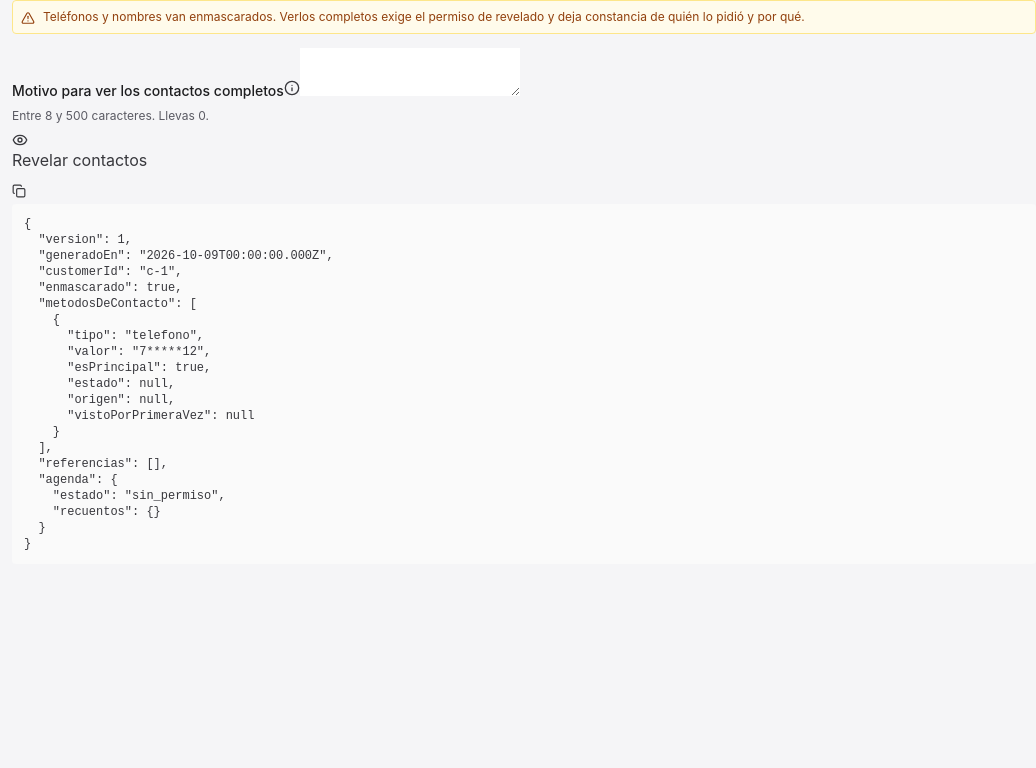
Test: VistaDeContactos › enseña el rechazo del servidor (0)
The image size is (1036, 768).
Type "Verificar la referencia antes de aprobar" into the text box labelled "Motivo para ver los contactos completos" at (410, 72), box 300,48 -> 520,96
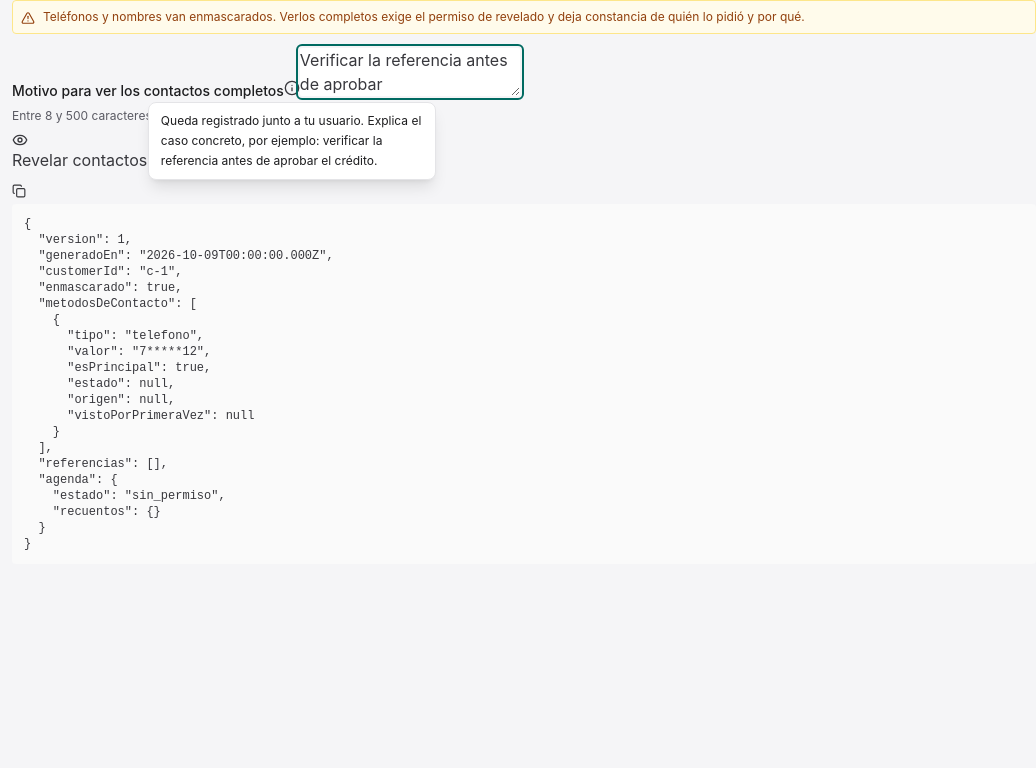
Click the button "Revelar contactos" at (80, 152), box 12,132 -> 147,172
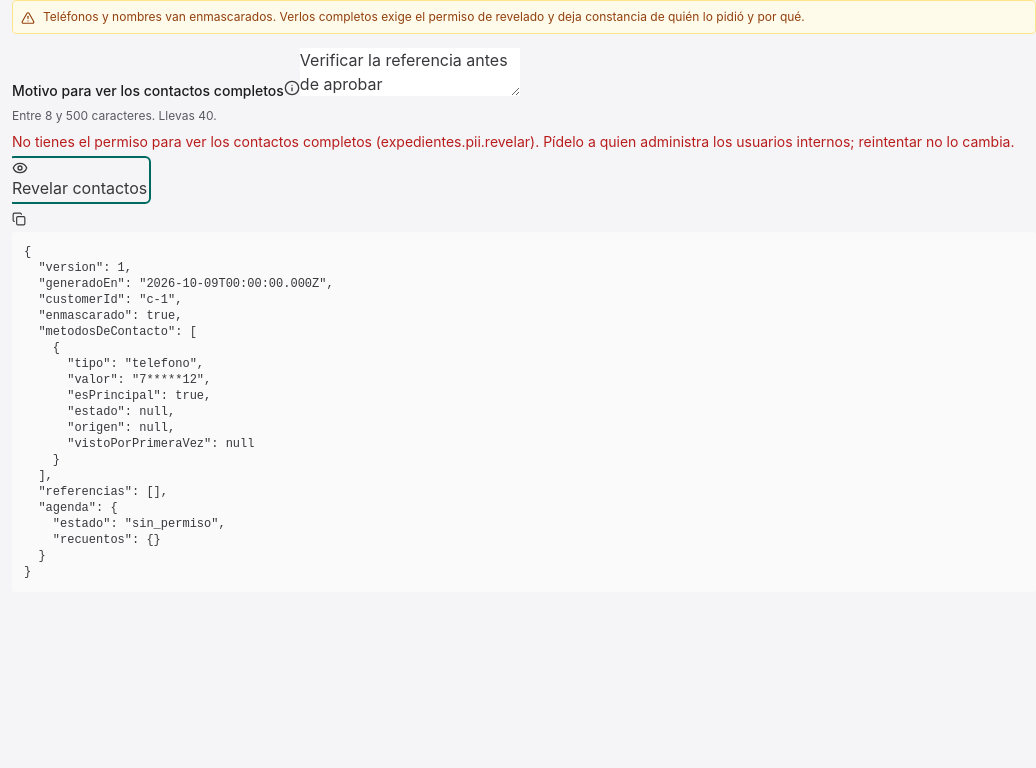
Now the message shows "No tienes el permiso para ver los contactos completos", box 12,133 -> 1014,150
